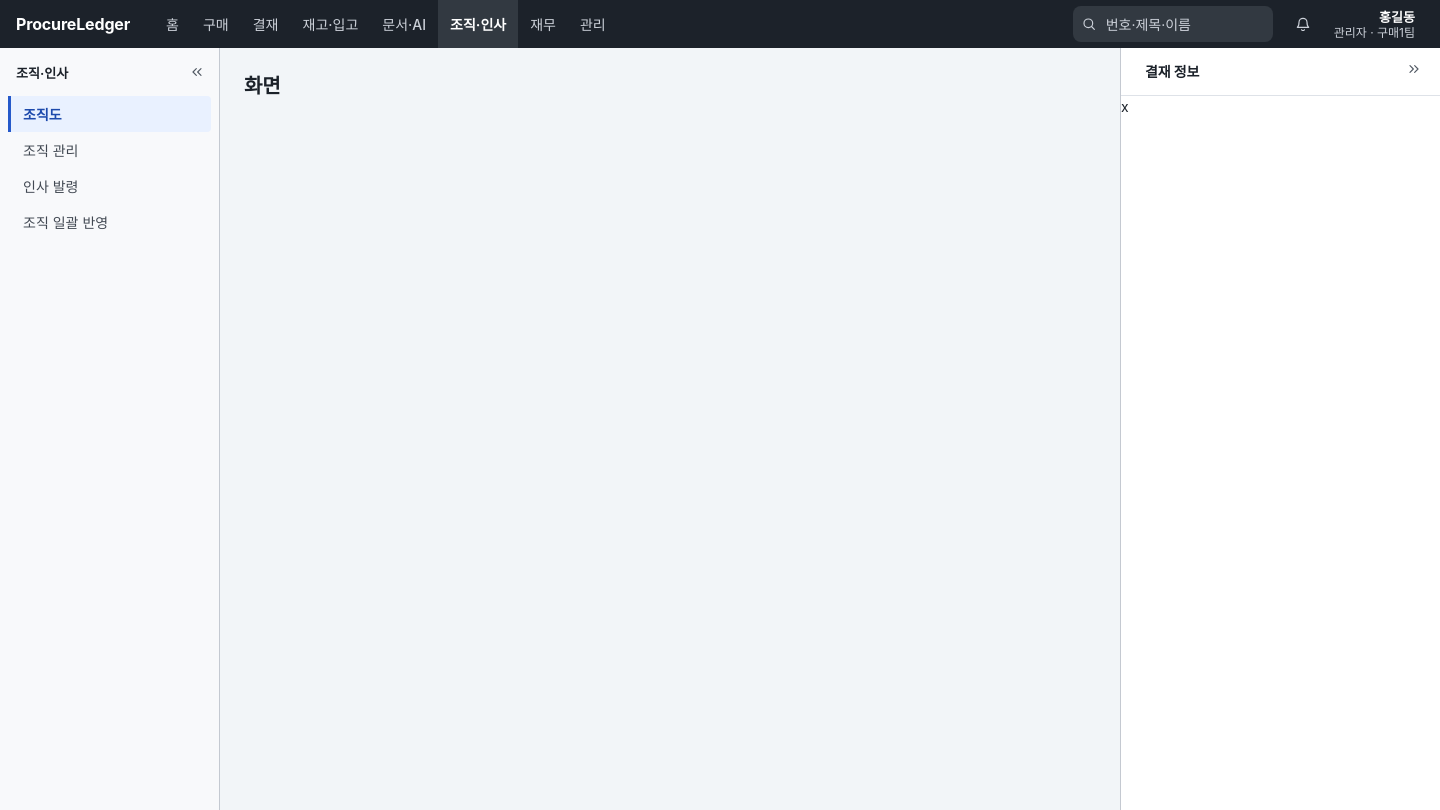
Scenario: 우측 패널 › 저장소가 막혀 있어도 터지지 않는다
Click the button named "패널 접기". click: (1414, 72)
box: x1=1400 y1=58 x2=1428 y2=86
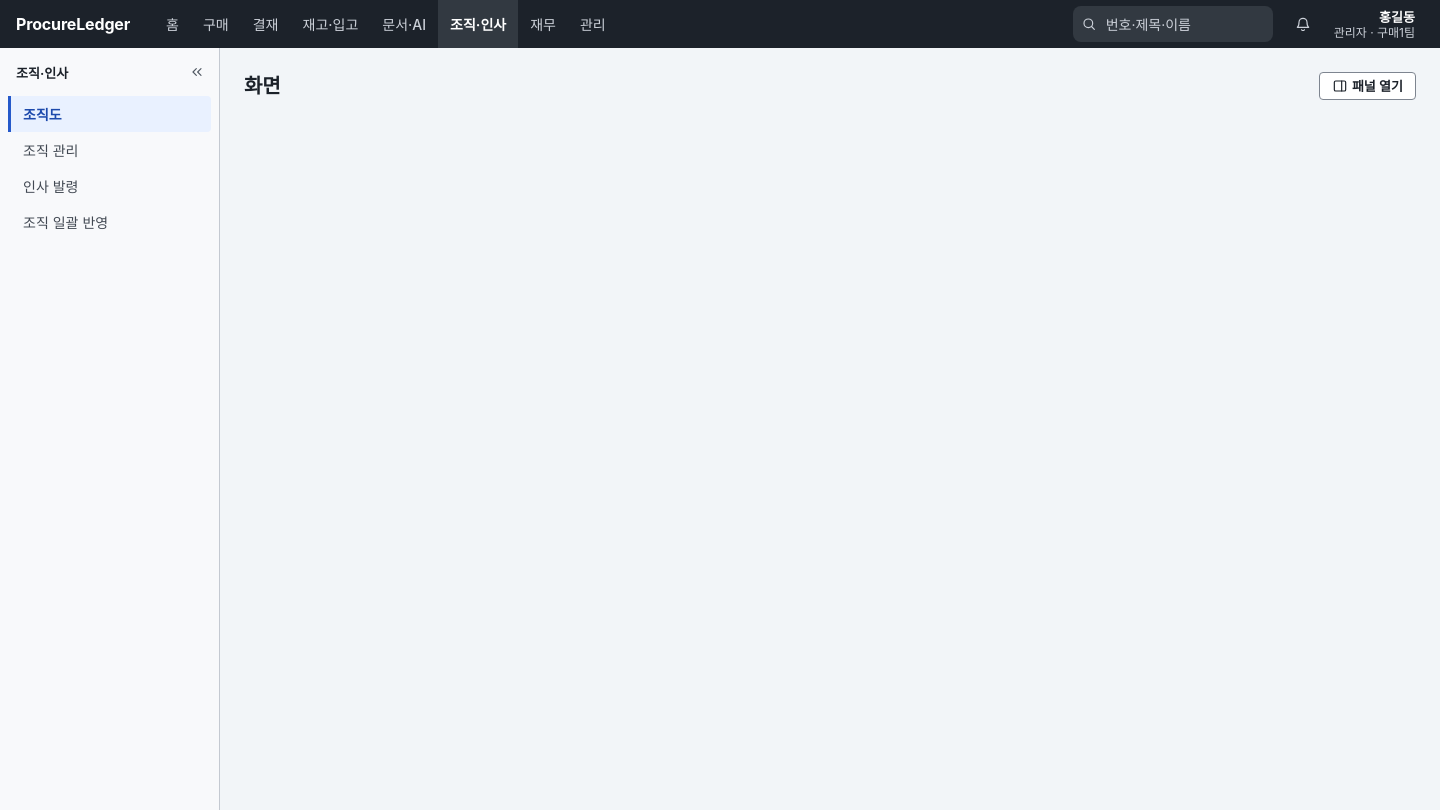
Expected: the button "패널 열기" is shown, x1=1319 y1=72 x2=1416 y2=100
